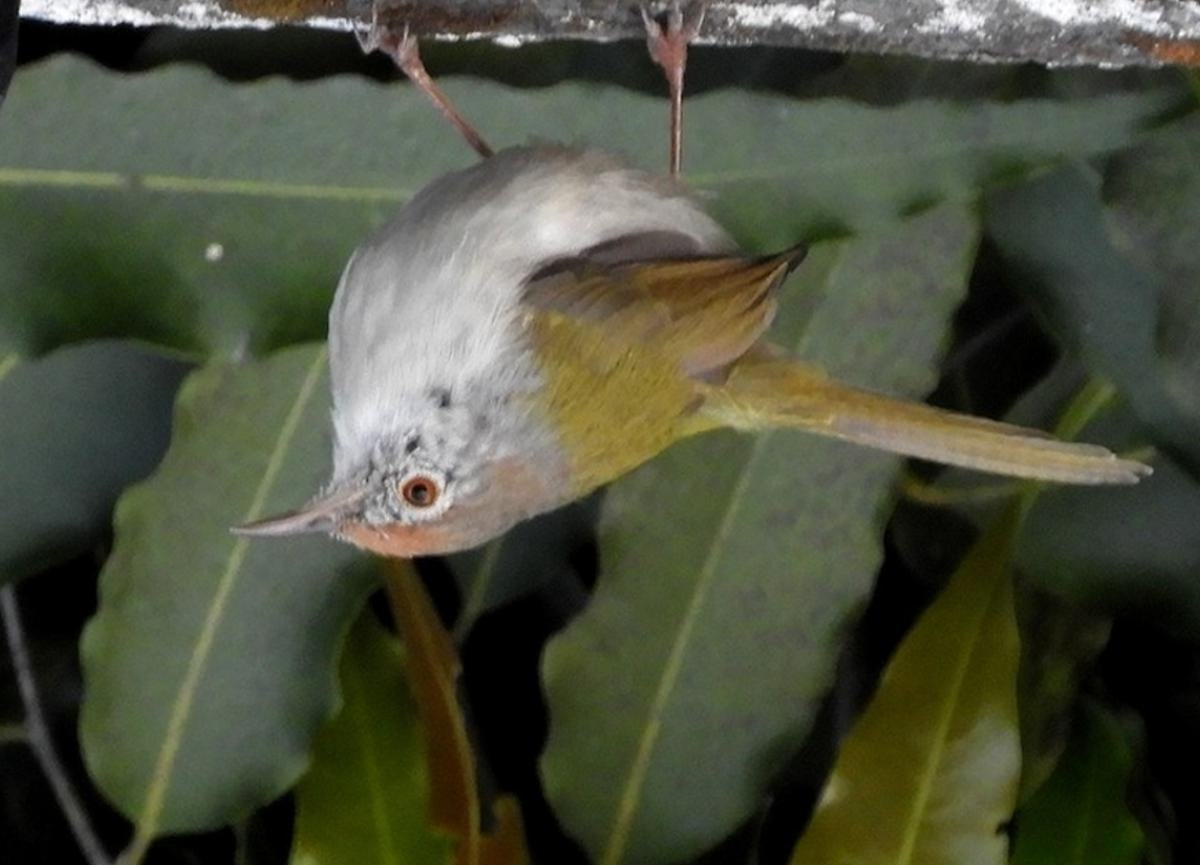tailorbird: (199, 132, 1095, 590)
